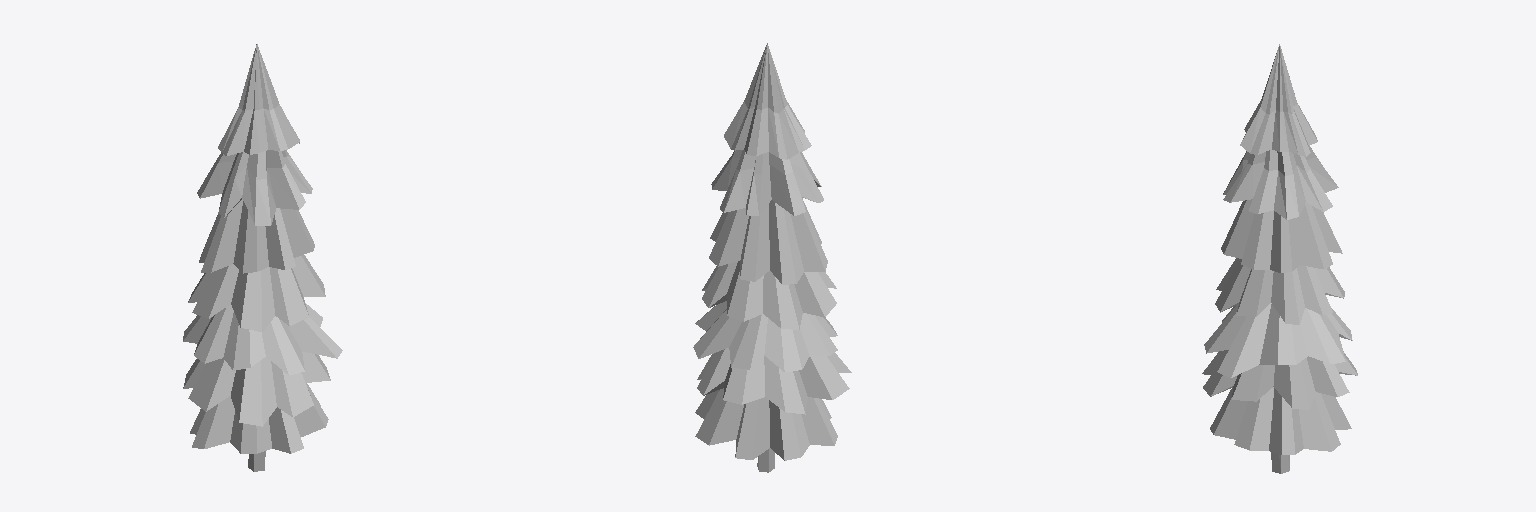
File: Forest_A_FirTree_04.obj
3 views of the same model, side by side, from view 1: azimuth 30°, elevation 25°; view 2: azimuth 150°, elevation 25°; view 3: azimuth 270°, elevation 25° (orthographic).
Parts seen in each view (by area): view 1: Forest_A_FirTree_04; view 2: Forest_A_FirTree_04; view 3: Forest_A_FirTree_04.
Part boxes in pixels (left/top/right/bottom): Forest_A_FirTree_04: left=183, top=44, right=342, bottom=471; Forest_A_FirTree_04: left=693, top=43, right=851, bottom=472; Forest_A_FirTree_04: left=1202, top=44, right=1357, bottom=473.
Bounding box in the file's own units: 191 × 587 × 195.